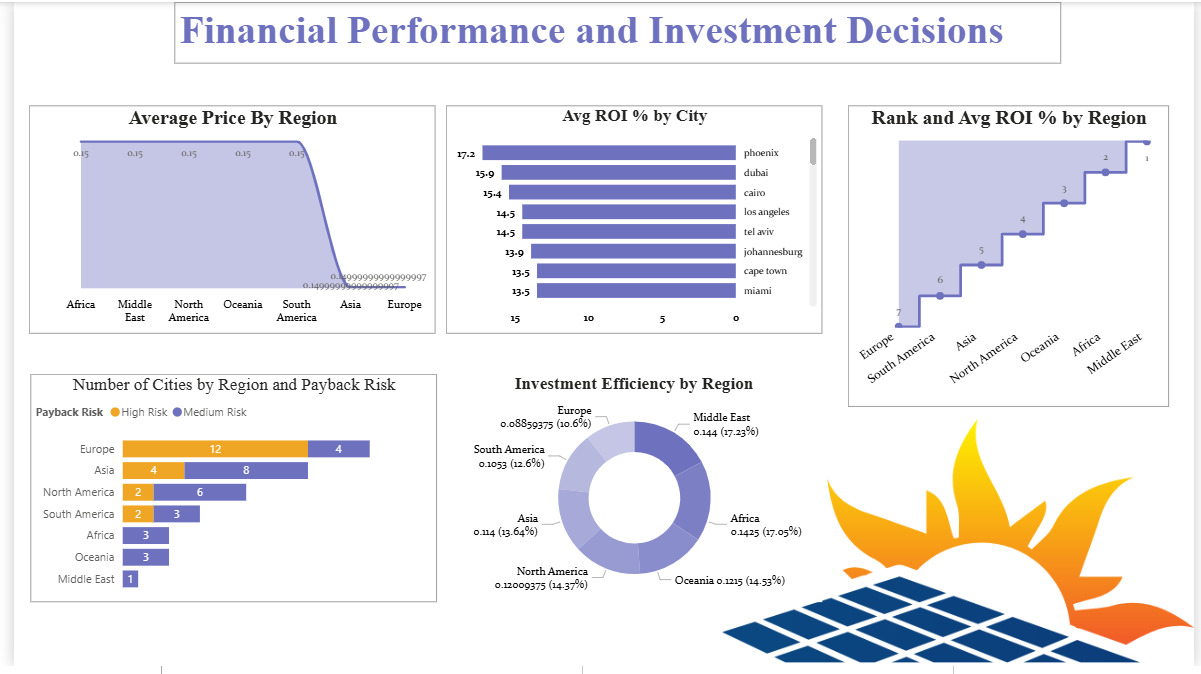

The page's visual inventory and layout, read from the dashboard file:
{"tool":"powerbi","page":{"name":"Financial Performance and Investment Decisions","canvas":[1280,720],"ordinal":0},"visuals":[{"type":"textbox","box":[174,0,961.3,66.7],"z":0},{"type":"lineChart","title":"Average Price By Region","fields":{"Y":["Avg(solar_energy_worldwide.Electricity_Price_USD_per_kWh)"],"Category":["solar_energy_worldwide.Region"]},"box":[16.3,112.2,440.8,247.2],"z":1000},{"type":"barChart","fields":{"Y":["Measures Table.Avg ROI %"],"Category":["solar_energy_worldwide.City"]},"box":[468.4,112.2,408.3,247.2],"z":2000},{"type":"barChart","title":"Number of Cities by Region and Payback Risk","fields":{"Category":["solar_energy_worldwide.Region"],"Y":["CountNonNull(solar_energy_worldwide.City)"],"Series":["solar_energy_worldwide.Payback Risk"]},"box":[17.9,403.4,440.8,247.2],"z":3000},{"type":"donutChart","fields":{"Y":["Measures Table.Investment Efficiency"],"Category":["solar_energy_worldwide.Region"]},"box":[468,403,408,247],"z":4000},{"type":"lineChart","fields":{"Y":["Measures Table.Rank"],"Category":["solar_energy_worldwide.Region"]},"box":[904.4,112.2,348.1,326.9],"z":5000}]}

Visuals, with their boxes in screenshot pixels (x1, y1, x2, y2), scaled from the page's 1280x720 canvas onto the 1201x674 screenshot:
textbox: Rect(163, 0, 1065, 62)
"Average Price By Region" lineChart: Rect(15, 105, 429, 336)
barChart - Measures Table.Avg ROI % x solar_energy_worldwide.City: Rect(439, 105, 823, 336)
"Number of Cities by Region and Payback Risk" barChart: Rect(17, 378, 430, 609)
donutChart - Measures Table.Investment Efficiency x solar_energy_worldwide.Region: Rect(439, 377, 822, 608)
lineChart - Measures Table.Rank x solar_energy_worldwide.Region: Rect(849, 105, 1175, 411)
